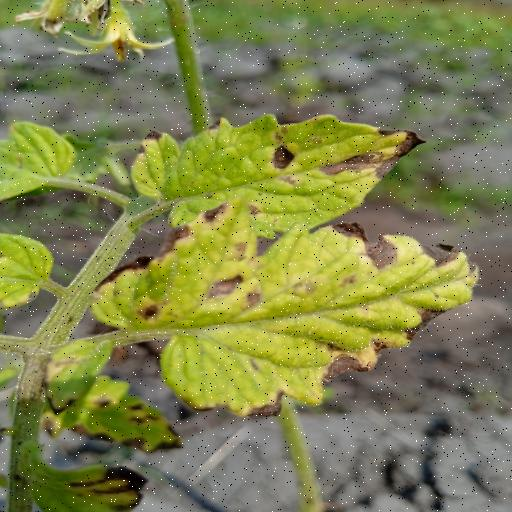Tomato_Brown_Spots: (83, 199, 489, 421), (127, 108, 426, 246)
